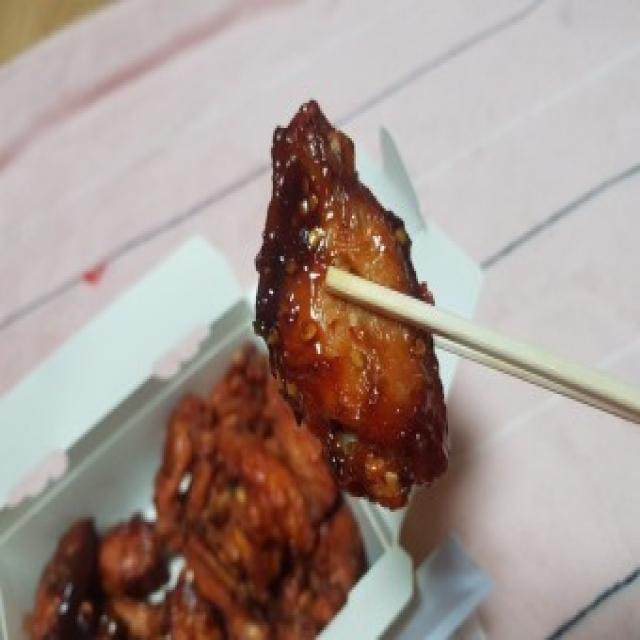Frango: (12, 57, 460, 640)
